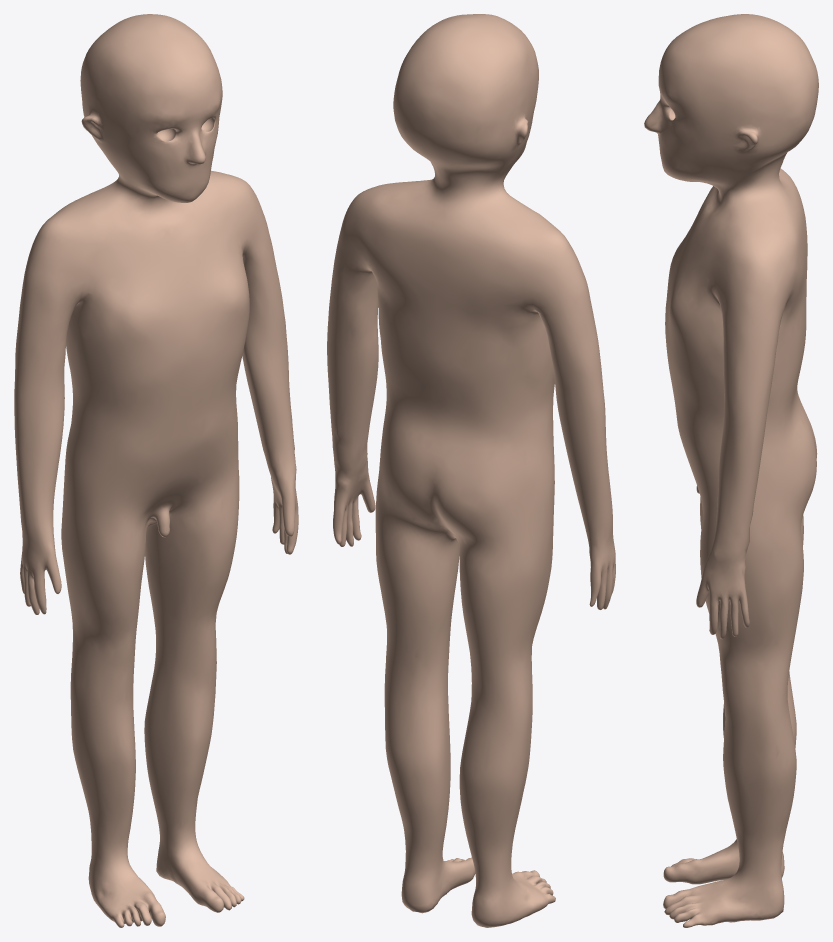
Rendered from pediatric_child_5y_male.surface.LOD0.glb.
3 views of the same model, side by side, from view 1: azimuth 30°, elevation 25°; view 2: azimuth 150°, elevation 25°; view 3: azimuth 270°, elevation 25° (orthographic).
Visible parts, largest first — view 1: PEDIATRIC.CHILD_5Y.MALE.SURFACE.SKIN; view 2: PEDIATRIC.CHILD_5Y.MALE.SURFACE.SKIN; view 3: PEDIATRIC.CHILD_5Y.MALE.SURFACE.SKIN.
Boxes of the visible parts, x1,y1,x2,y2 form: PEDIATRIC.CHILD_5Y.MALE.SURFACE.SKIN: (14,14,298,927); PEDIATRIC.CHILD_5Y.MALE.SURFACE.SKIN: (327,14,615,927); PEDIATRIC.CHILD_5Y.MALE.SURFACE.SKIN: (644,14,818,927).
Size of the model in its own units: 0.3531 by 1.09 by 0.1967.
